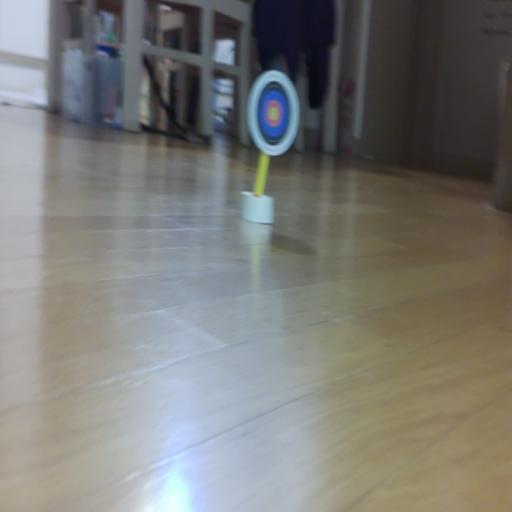target: (247, 70, 300, 156)
